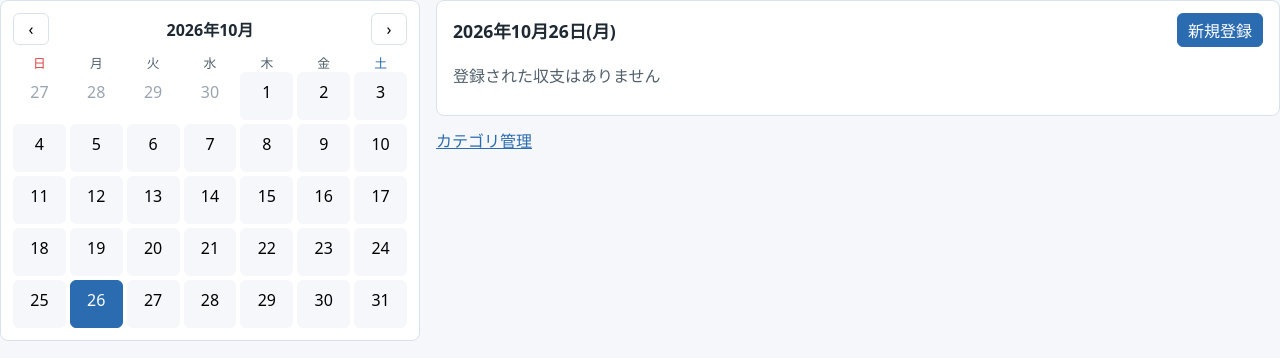
it: CalendarView › moves to another month with the navigation buttons and loads that month
Click the button named "次の月". click: coordinates (389, 29)
box: [371,13,407,45]
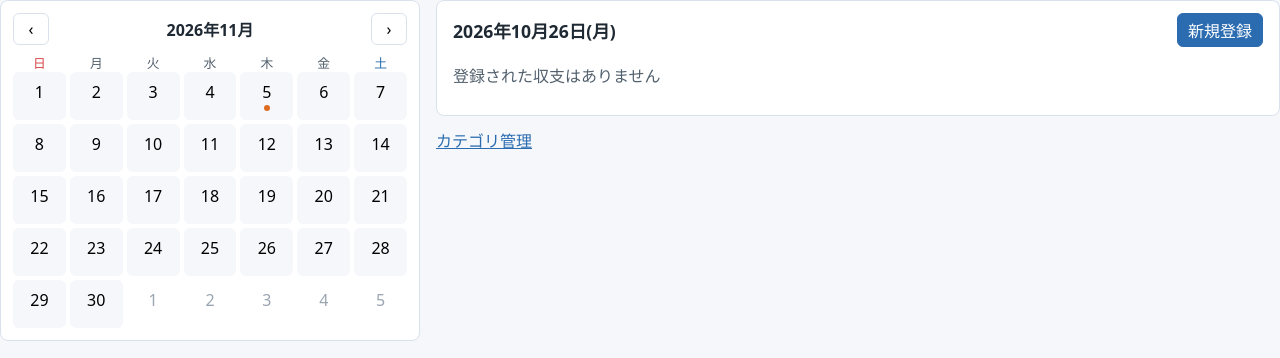
Expected: the text with class "calendar-title" reads "2026年11月", [166,19,253,41]
Expected: the number of elements with test id "marker-expense" is 1, [264,105,270,111]
